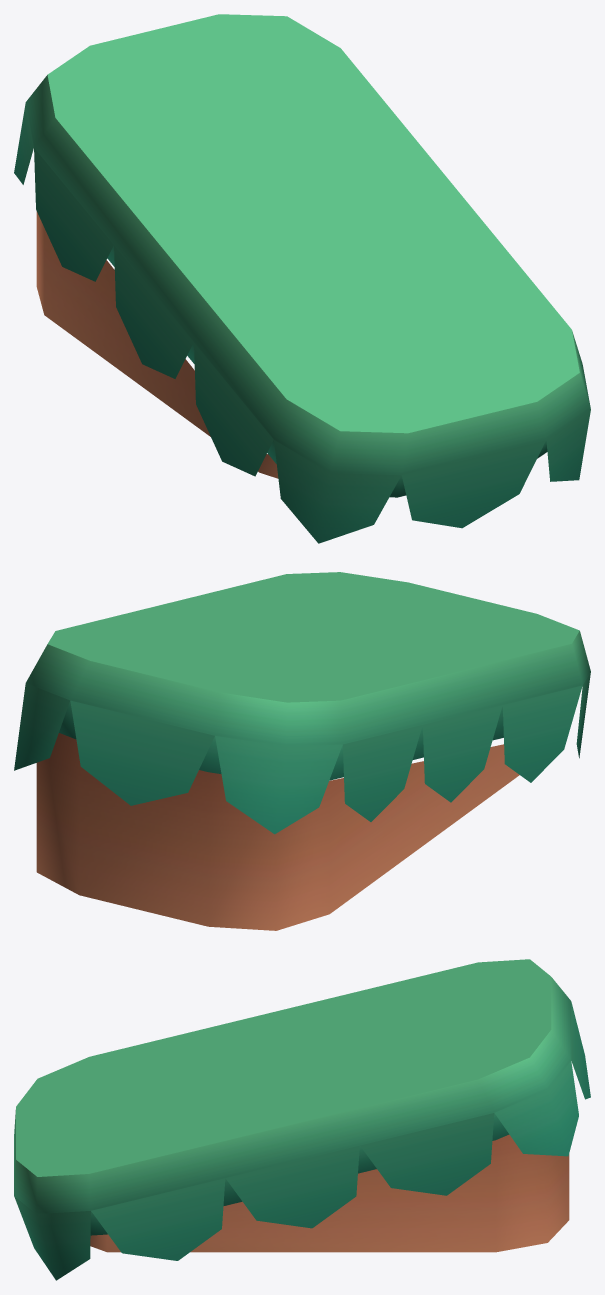
Rendered from kenney-platformer-block-grass-overhang-large-slope-narrow.glb.
3 renders of one model, top to bottom at view 1: azimuth 30°, elevation 25°; view 2: azimuth 150°, elevation 25°; view 3: azimuth 270°, elevation 25°, orthographic. The views are drawn at different scales.
Parts seen in each view (by area): view 1: block-grass-overhang-large-slope-narrow; view 2: block-grass-overhang-large-slope-narrow; view 3: block-grass-overhang-large-slope-narrow.
Boxes of the visible parts, x1,y1,x2,y2 form: block-grass-overhang-large-slope-narrow: [14, 14, 590, 543]; block-grass-overhang-large-slope-narrow: [14, 572, 590, 930]; block-grass-overhang-large-slope-narrow: [14, 959, 590, 1280].
Size of the model in its own units: 1.08 by 0.9144 by 2.08.
Materials: 1 (1 with a texture image).
